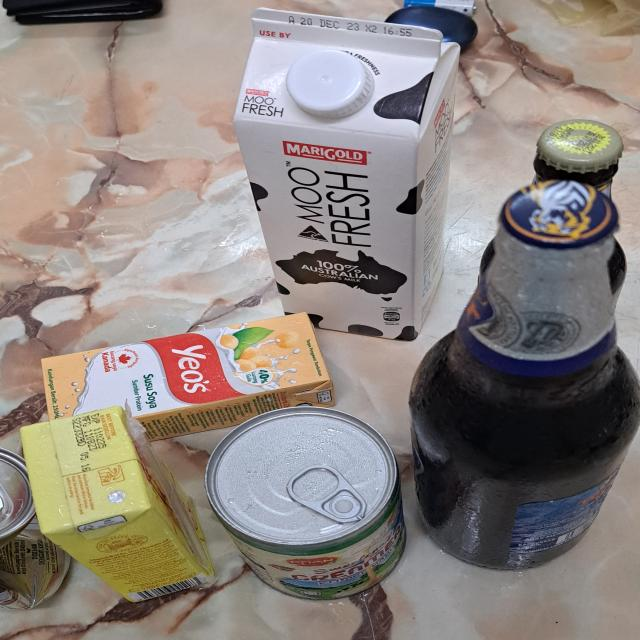can: (204, 406, 406, 601), (0, 450, 75, 610)
drink carton: (234, 8, 463, 342), (19, 407, 215, 607), (39, 311, 337, 442)
glass bottle: (404, 180, 640, 571), (478, 117, 626, 314)
plastic bottle cap: (286, 50, 375, 120)
pop tab: (286, 463, 368, 524)
